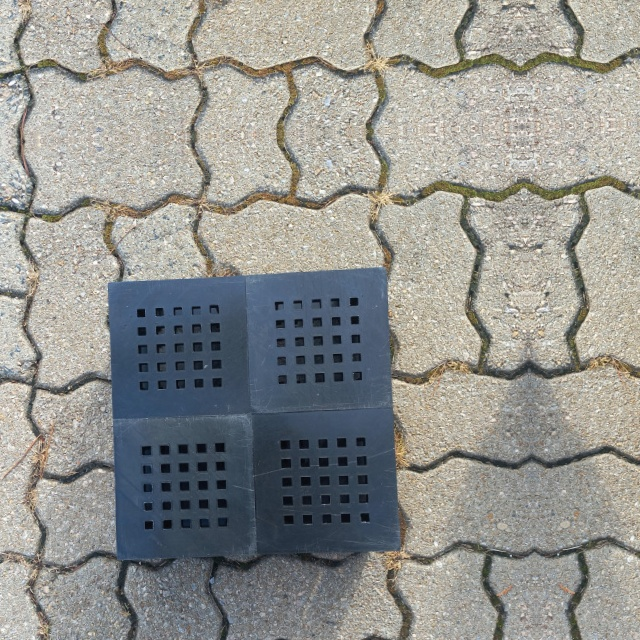pallet: (106, 269, 404, 566)
